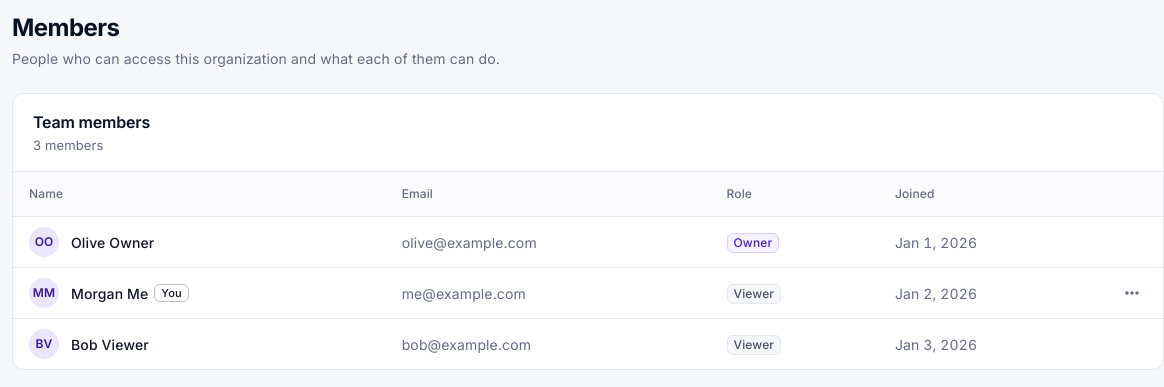
MembersPage permissions › hides invite and role controls from a viewer
Check: the text "Bob Viewer" is shown, box [71, 334, 149, 354]
Check: the text "Olive Owner" is shown, box [71, 232, 154, 252]
Note: A viewer can still leave the organization themselves.
Click the button named "Actions for Morgan Me".
click(1132, 293)  # box [1117, 278, 1147, 308]
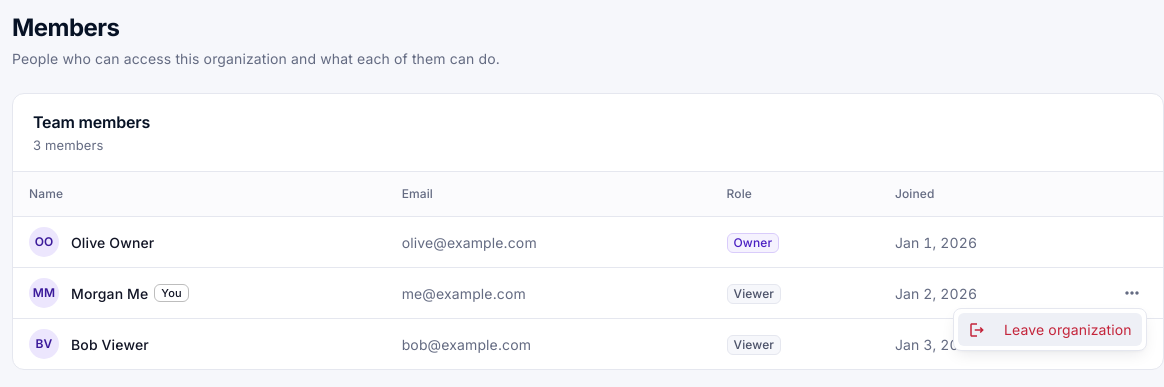
Check: the menu item "Leave organization" is shown, box [958, 313, 1142, 346]
